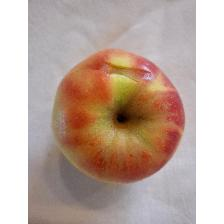Apfel: (51, 45, 187, 187)
